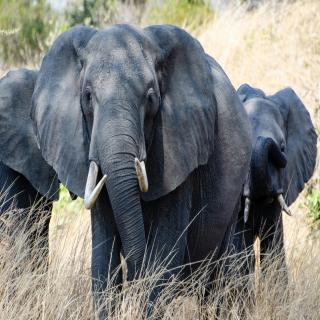Elephant: (27, 18, 254, 317)
